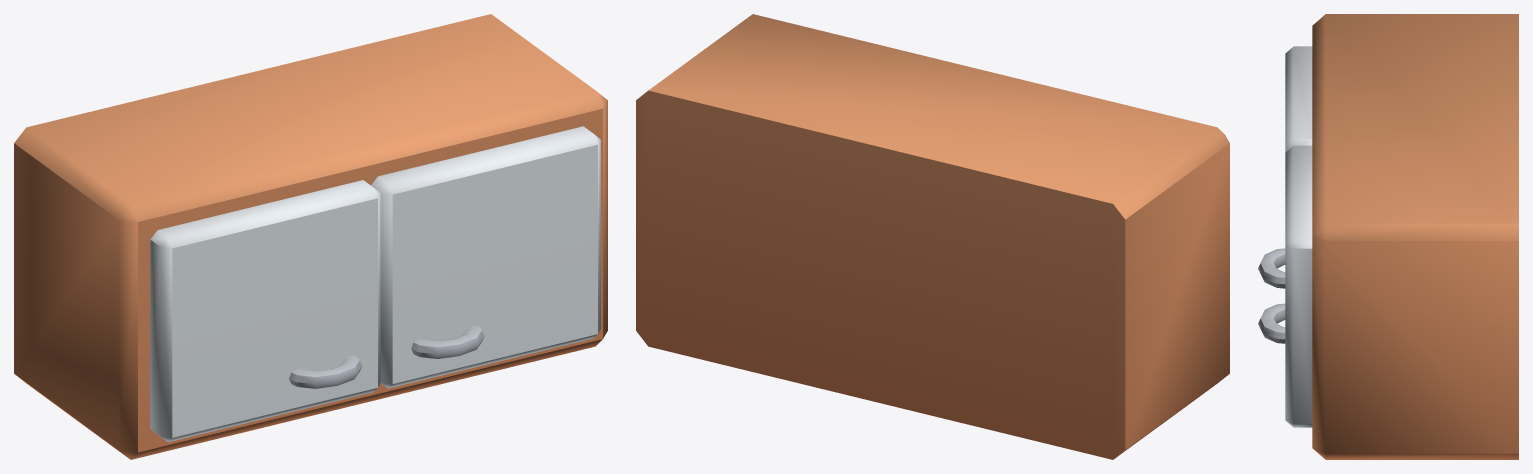
File: Wall Cabinet Straight.glb
3 renders of one model, left to right at view 1: azimuth 30°, elevation 25°; view 2: azimuth 150°, elevation 25°; view 3: azimuth 270°, elevation 25°, orthographic. The views are drawn at different scales.
Parts seen in each view (by area): view 1: wall_cabinet_straight; view 2: wall_cabinet_straight; view 3: wall_cabinet_straight.
Part boxes in pixels (box(x1,y1,x2,y2)): wall_cabinet_straight: box(14, 14, 607, 459); wall_cabinet_straight: box(636, 14, 1229, 459); wall_cabinet_straight: box(1258, 14, 1518, 459).
Size of the model in its own units: 2 by 1 by 1.
1 material, 1 textured.
